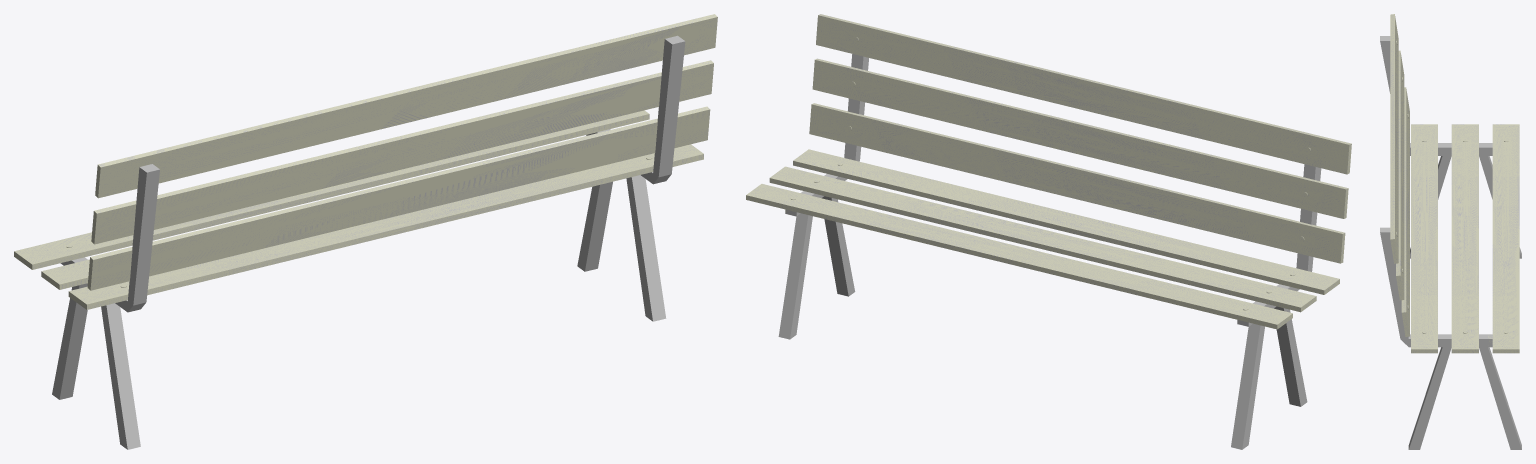
3 renders of one model, left to right at view 1: azimuth 30°, elevation 25°; view 2: azimuth 150°, elevation 25°; view 3: azimuth 270°, elevation 25°, orthographic. The views are drawn at different scales.
Visible parts, largest first — view 1: mesh16_mesh16-geometry, mesh9_mesh9-geometry, mesh3_mesh3-geometry, mesh1_mesh1-geometry, mesh7_mesh7-geometry, mesh11_mesh11-geometry, mesh5_mesh5-geometry; view 2: mesh16_mesh16-geometry, mesh5_mesh5-geometry, mesh11_mesh11-geometry, mesh7_mesh7-geometry, mesh1_mesh1-geometry, mesh9_mesh9-geometry, mesh3_mesh3-geometry; view 3: mesh16_mesh16-geometry, mesh3_mesh3-geometry, mesh1_mesh1-geometry, mesh5_mesh5-geometry, mesh9_mesh9-geometry, mesh11_mesh11-geometry, mesh7_mesh7-geometry.
Boxes of the visible parts, x1,y1,x2,y2 form: mesh16_mesh16-geometry: (14,14,717,309); mesh9_mesh9-geometry: (75,164,159,312); mesh3_mesh3-geometry: (641,35,685,184); mesh1_mesh1-geometry: (626,175,666,321); mesh7_mesh7-geometry: (101,303,140,449); mesh11_mesh11-geometry: (52,283,87,399); mesh5_mesh5-geometry: (577,181,612,271); mesh16_mesh16-geometry: (746,14,1351,329); mesh5_mesh5-geometry: (778,213,812,339); mesh11_mesh11-geometry: (1231,323,1264,449); mesh7_mesh7-geometry: (1274,306,1307,406); mesh1_mesh1-geometry: (822,196,855,296); mesh9_mesh9-geometry: (1253,164,1321,308); mesh3_mesh3-geometry: (801,54,868,198); mesh16_mesh16-geometry: (1390,14,1519,353); mesh3_mesh3-geometry: (1380,227,1487,347); mesh1_mesh1-geometry: (1408,347,1451,449); mesh5_mesh5-geometry: (1479,347,1521,449); mesh9_mesh9-geometry: (1380,36,1487,155); mesh11_mesh11-geometry: (1479,156,1521,258); mesh7_mesh7-geometry: (1410,156,1451,258).
Bounding box in the file's own units: 0.8807 × 0.4114 × 0.2348.
